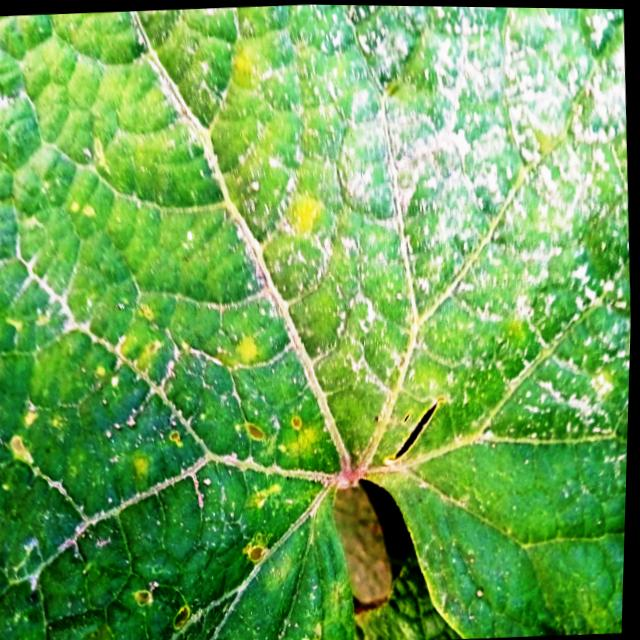Downy-Mildew: (0, 4, 633, 640)
